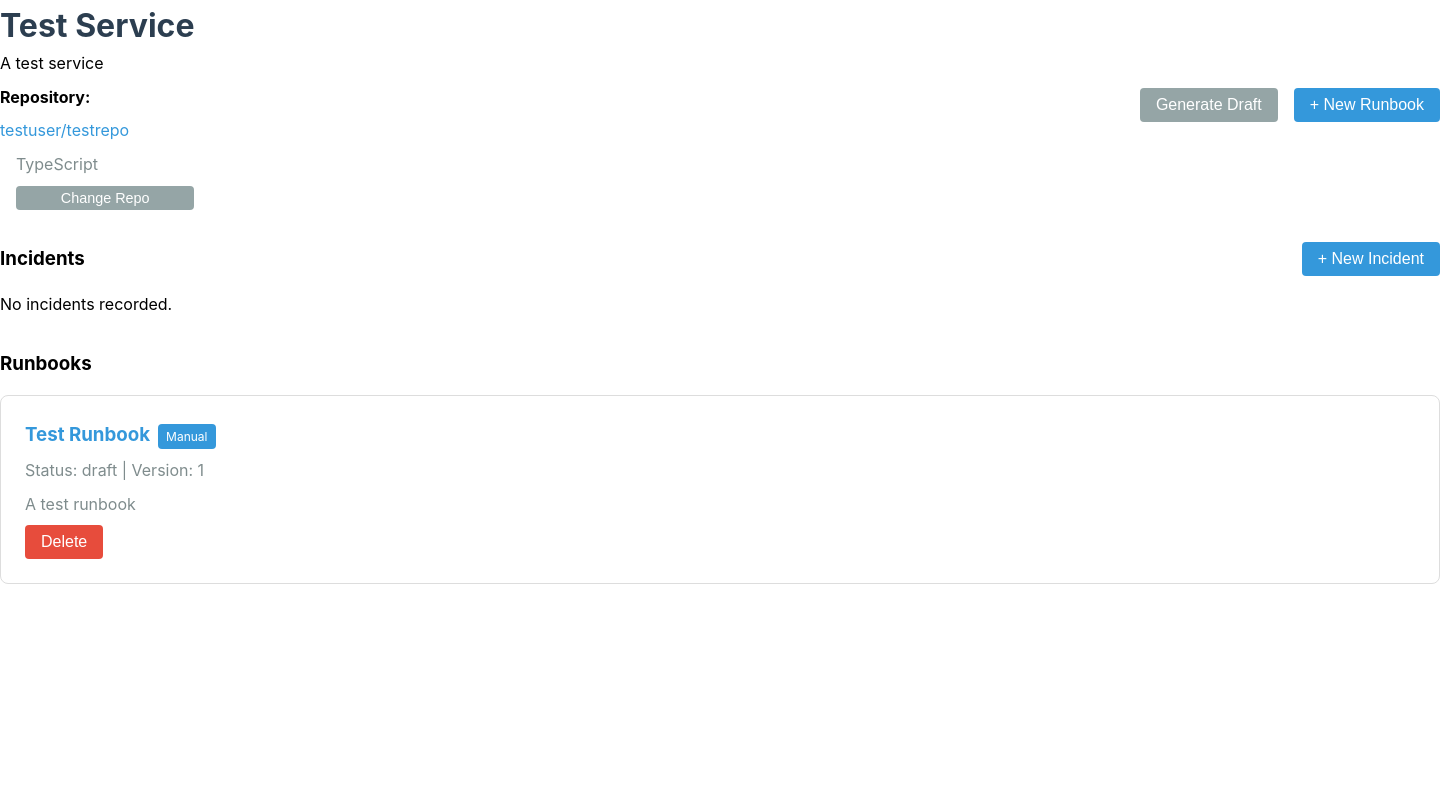
Test case: ServiceDetailPage › shows confirmation modal when runbooks exist and Generate Draft is clicked
Click the button "Generate Draft" at coordinates (1209, 105), box [1140,88,1278,122]
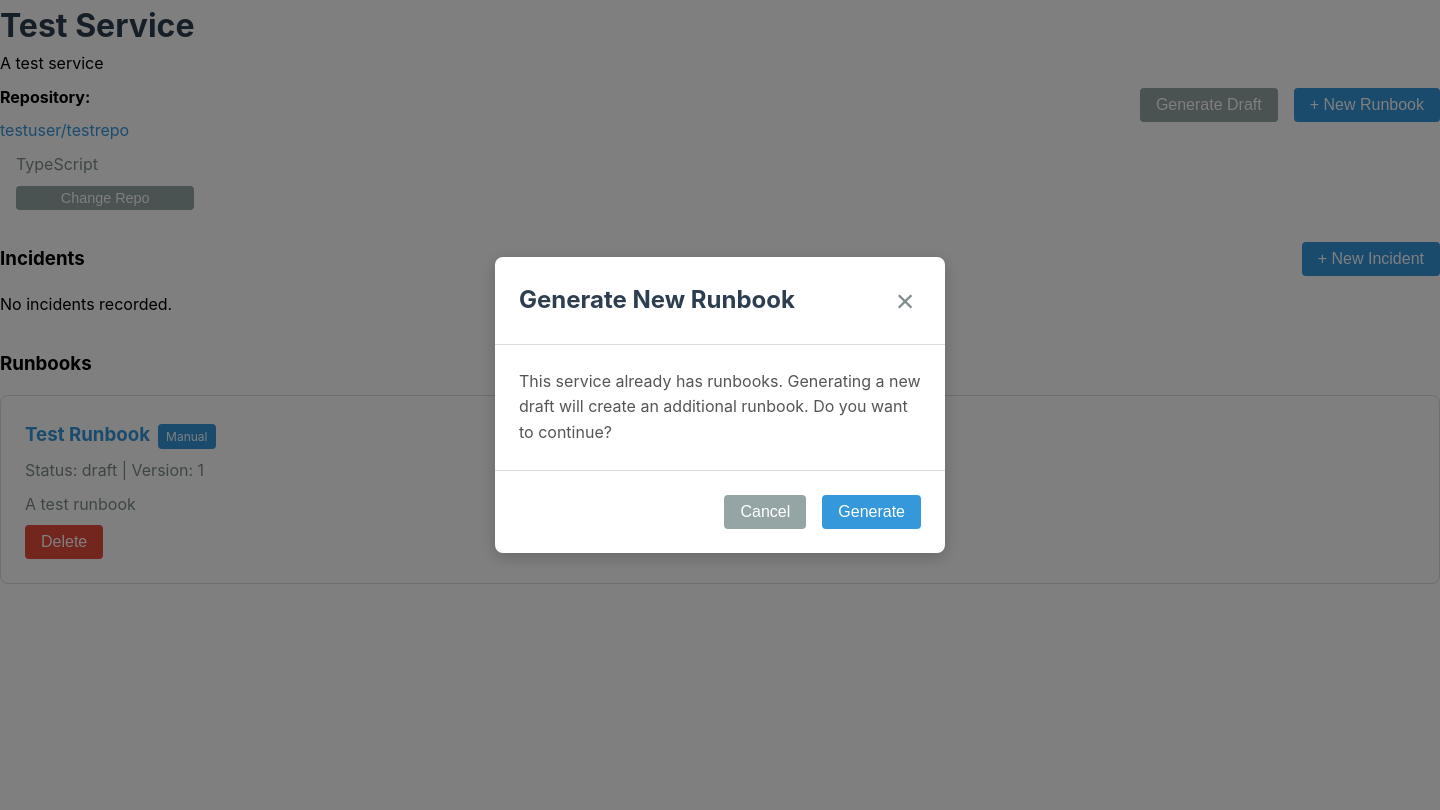
Now the heading "Generate New Runbook" is shown, box [519,281,795,320]
Now the text "already has runbooks" is shown, box [519,371,921,442]
